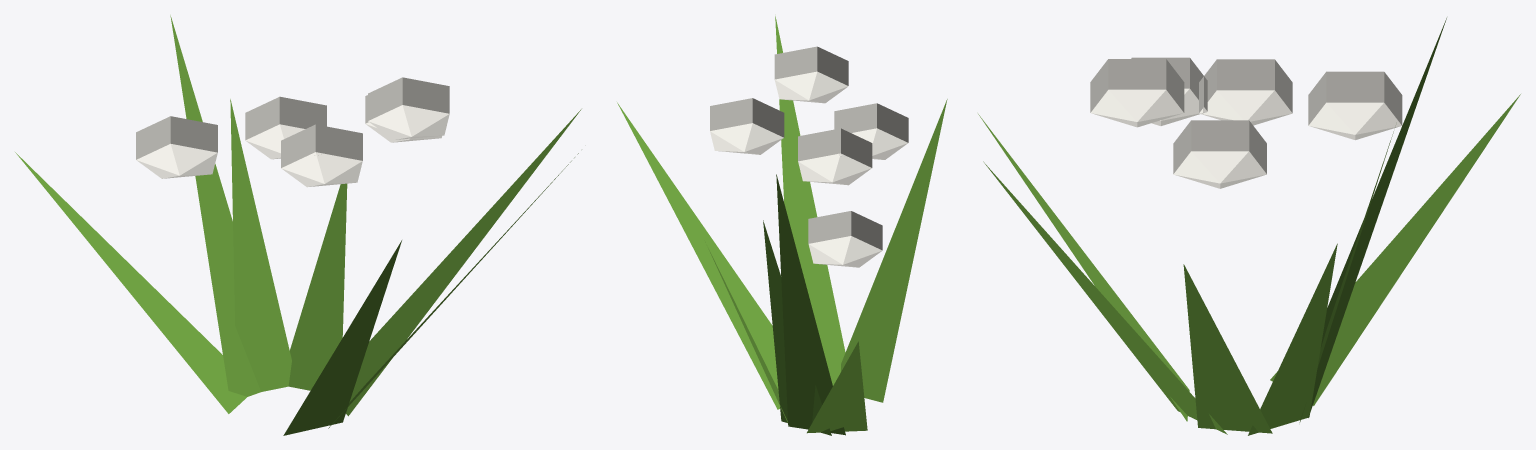
3 renders of one model, left to right at view 1: azimuth 30°, elevation 25°; view 2: azimuth 150°, elevation 25°; view 3: azimuth 270°, elevation 25°, orthographic. The views are drawn at different scales.
Visible parts, largest first — view 1: flowers-white; view 2: flowers-white; view 3: flowers-white.
Part boxes in pixels (bbox=[...]): flowers-white: bbox=[15, 15, 581, 435]; flowers-white: bbox=[617, 16, 947, 435]; flowers-white: bbox=[978, 18, 1520, 435].
Size of the model in its own units: 0.5701 by 0.4506 by 0.5748.
